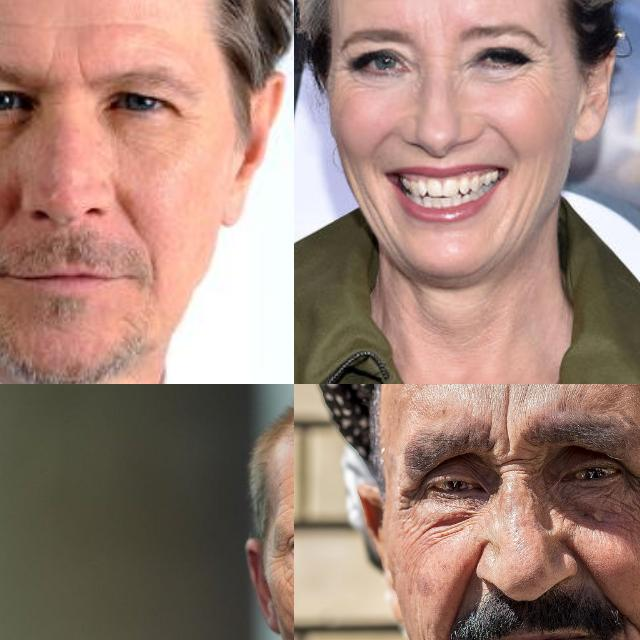crows_feet: (529, 46, 559, 94), (398, 484, 426, 512), (269, 543, 294, 573), (331, 59, 352, 92), (623, 471, 640, 503)
forehead: (72, 18, 172, 38), (0, 11, 55, 37), (281, 467, 294, 512), (498, 384, 517, 399)
frown_line: (38, 53, 86, 81), (495, 452, 529, 478), (500, 407, 514, 449)
gummy_smile: (111, 186, 149, 244), (570, 547, 612, 587), (450, 566, 478, 616), (488, 120, 524, 158), (364, 122, 401, 156), (0, 197, 16, 246)
masseter: (348, 168, 388, 240), (508, 187, 538, 247), (408, 524, 458, 544), (610, 509, 640, 534), (282, 578, 294, 599)
sad_smile: (144, 258, 158, 296), (629, 621, 640, 640)
